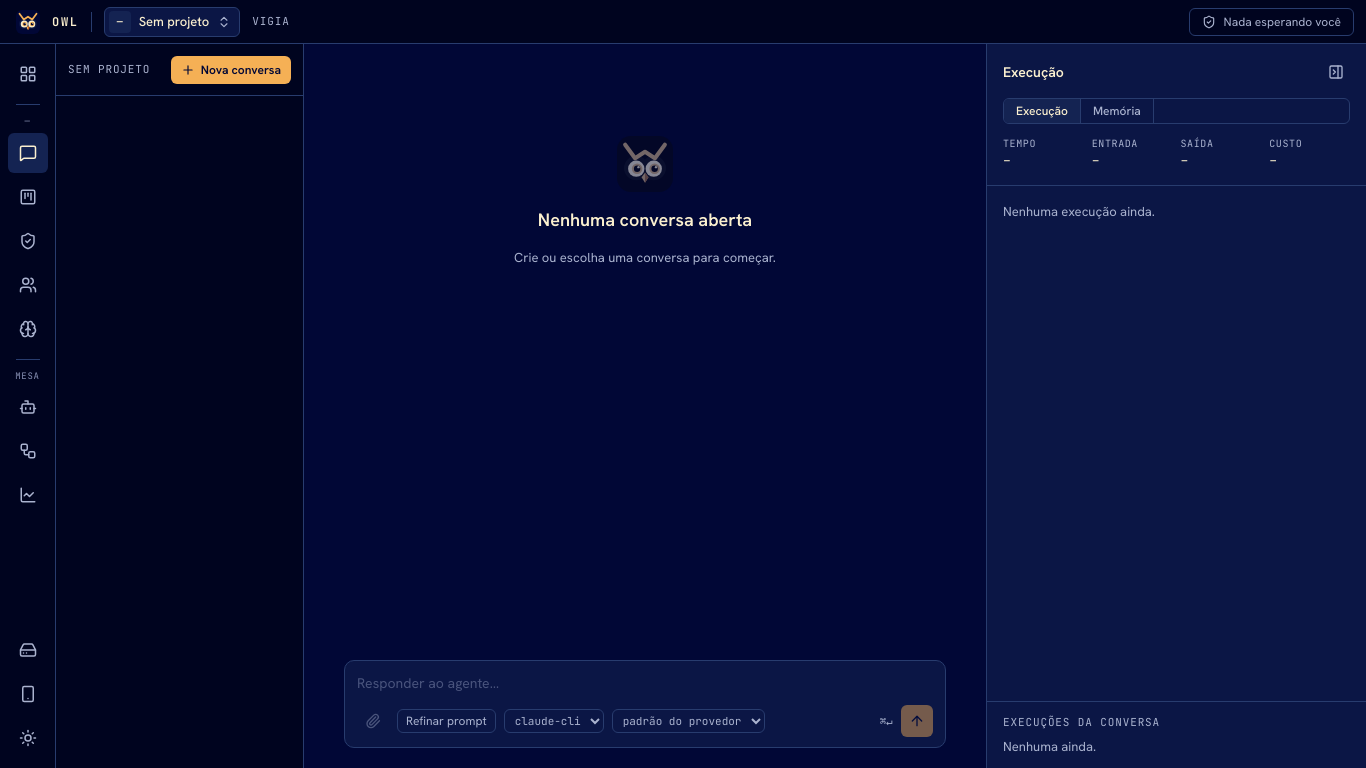
Scenario: trash › deleting for good asks for a second click, and warns when the CLI keeps its own history
Click the button named "Lixeira e armazenamento". click: (28, 650)
box: [8,630,48,670]
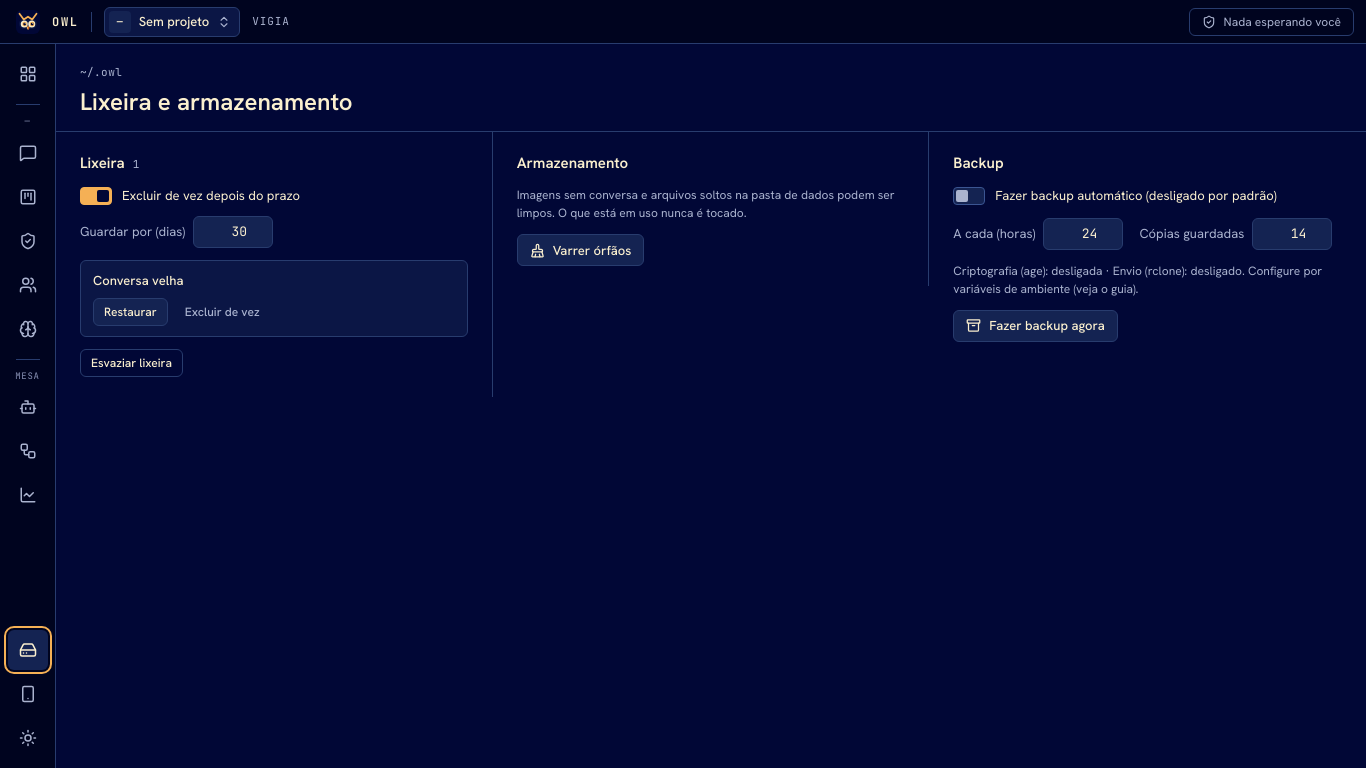
Click the button "Excluir de vez". click: (222, 312)
box: [174,298,271,326]
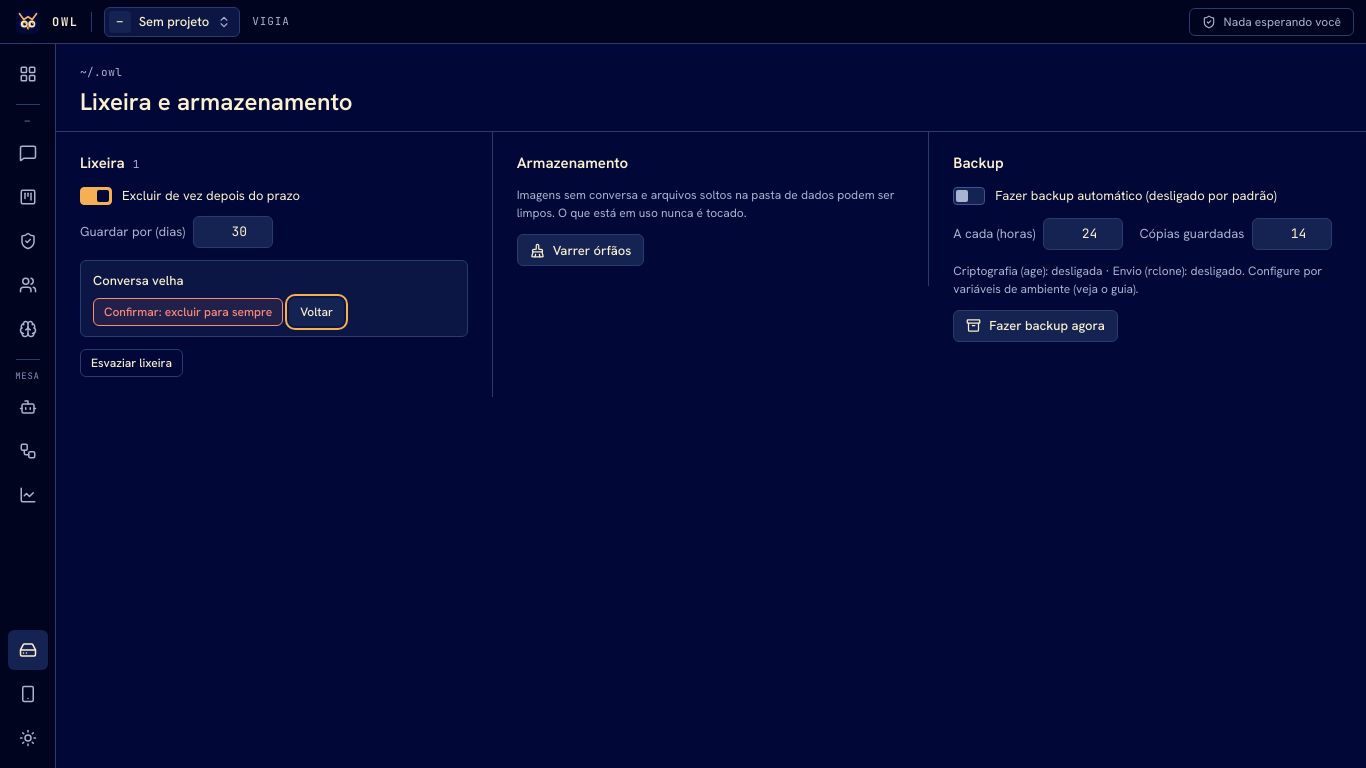
Click the button "Confirmar: excluir para sempre". click: (188, 312)
box: [93,298,283,326]
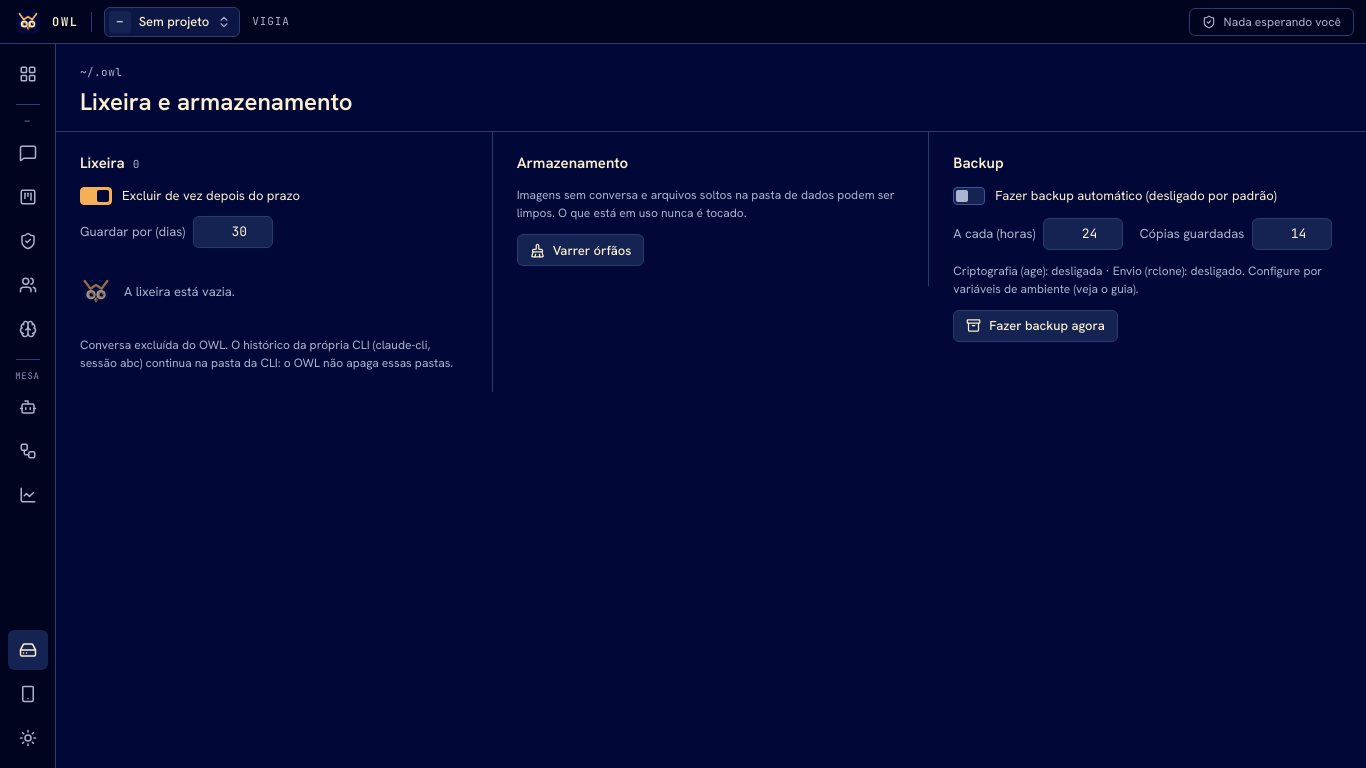
Now the text "continua na pasta da CLI" is shown, box [80,336,453,370]
